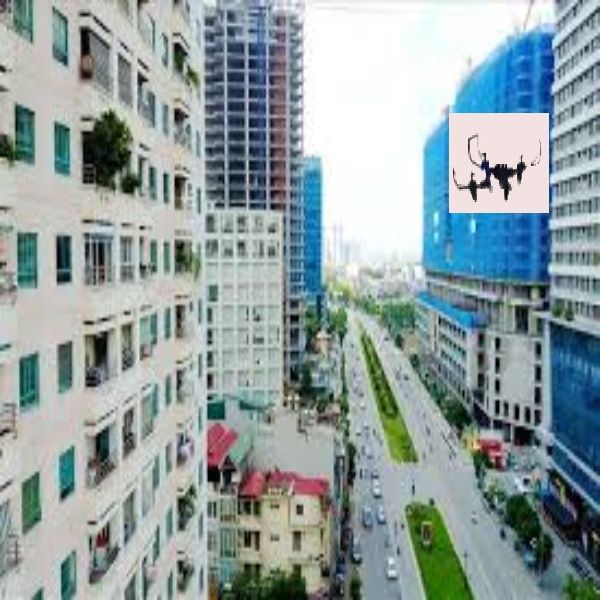drone: (456, 124, 550, 214)
